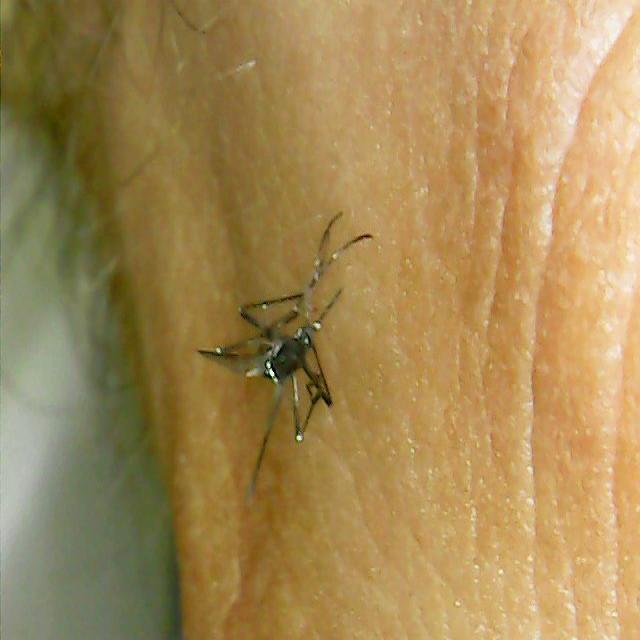albopictus: (192, 189, 372, 492)
